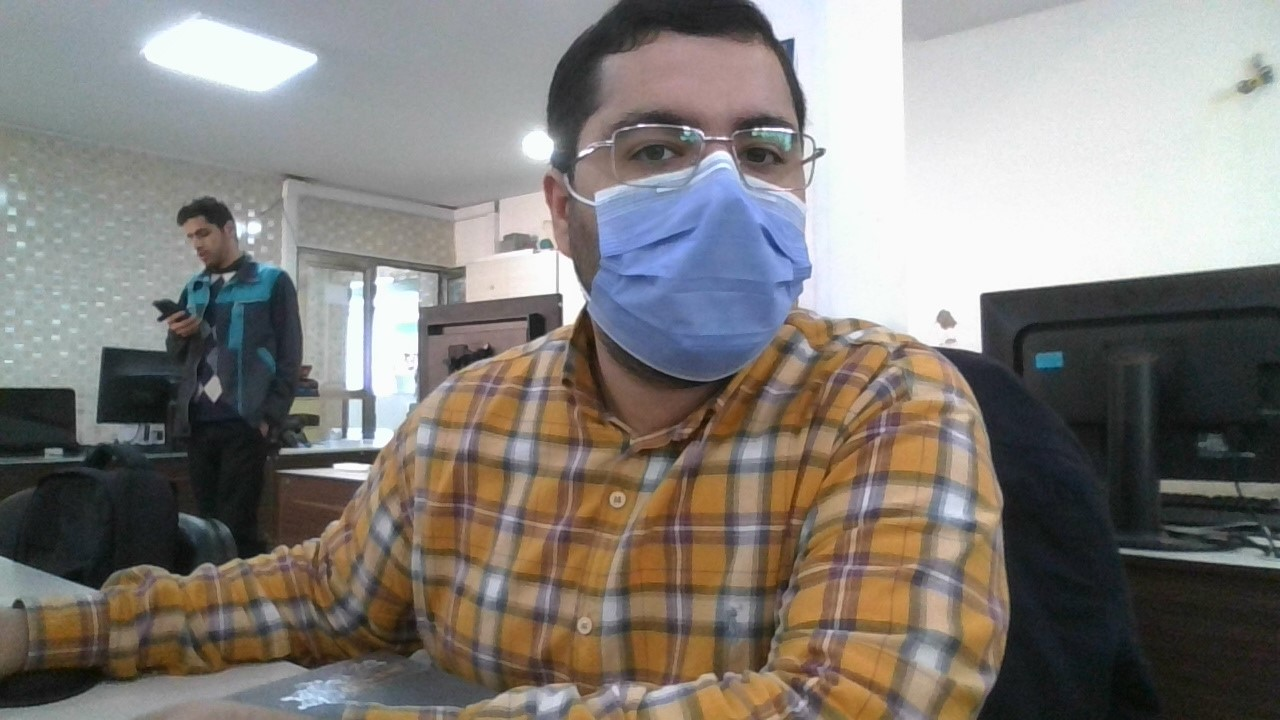Mask: (582, 152, 813, 383)
